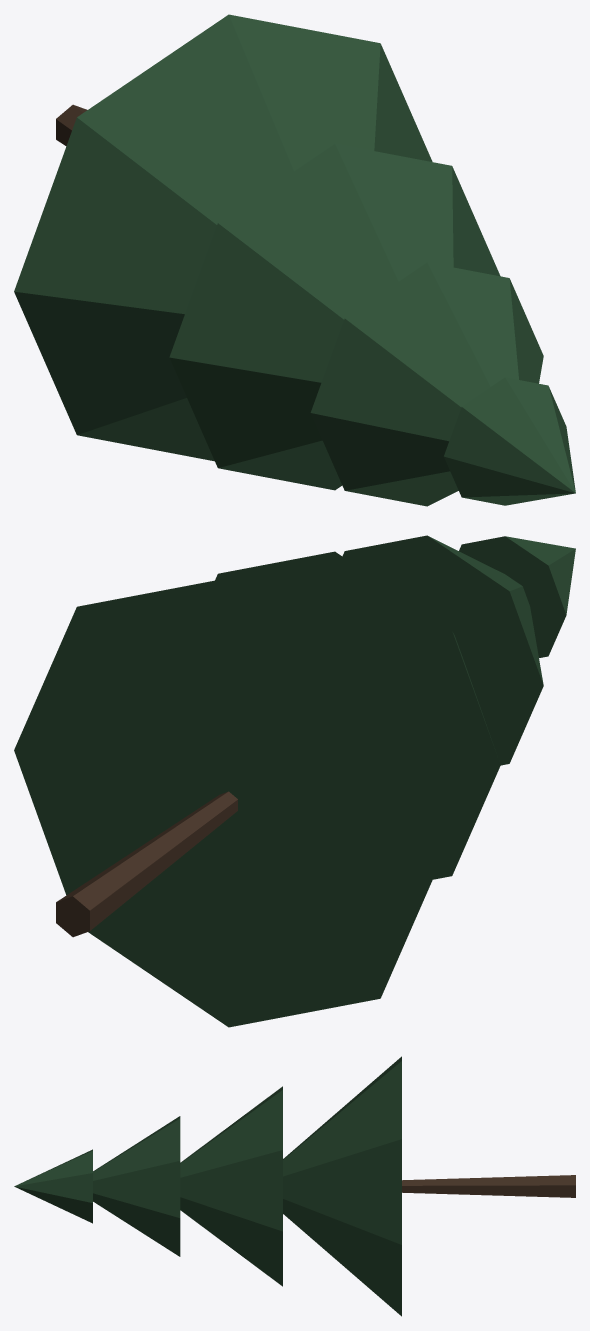
Rendered from tree-conifer.glb.
3 views of the same model, one above another, from view 1: azimuth 30°, elevation 25°; view 2: azimuth 150°, elevation 25°; view 3: azimuth 270°, elevation 25° (orthographic). The views are drawn at different scales.
Visible parts, largest first — view 1: tree-conifer; view 2: tree-conifer; view 3: tree-conifer.
Boxes of the visible parts, x1,y1,x2,y2 form: tree-conifer: (14,14,575,506); tree-conifer: (14,535,575,1027); tree-conifer: (14,1056,575,1316).
Size of the model in its own units: 3.5 by 3.5 by 7.1.
